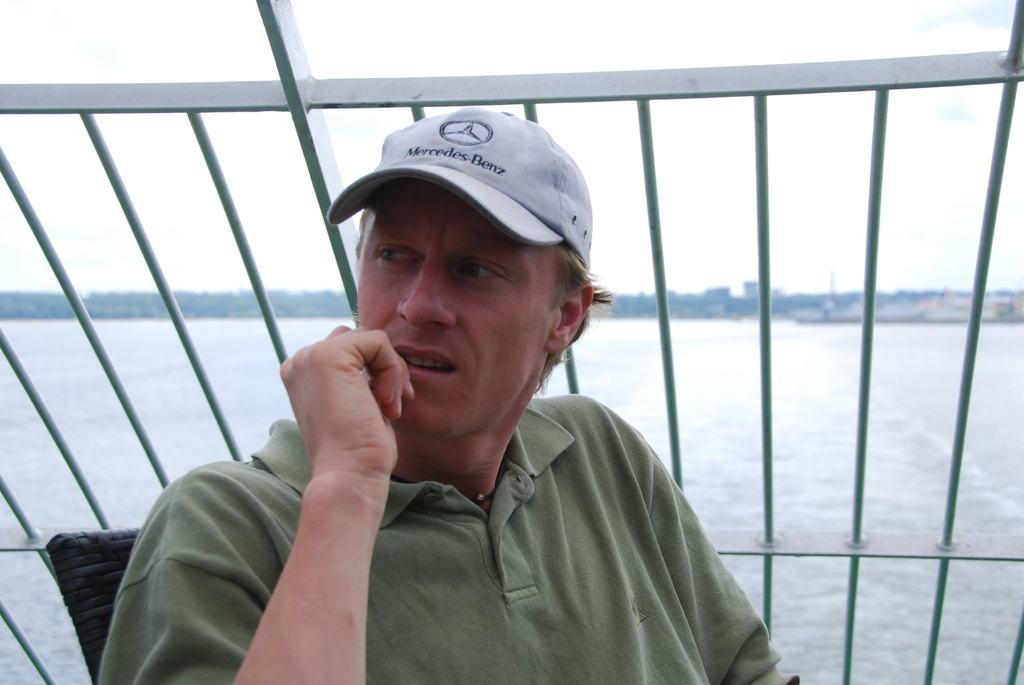Hat: (326, 103, 592, 268)
